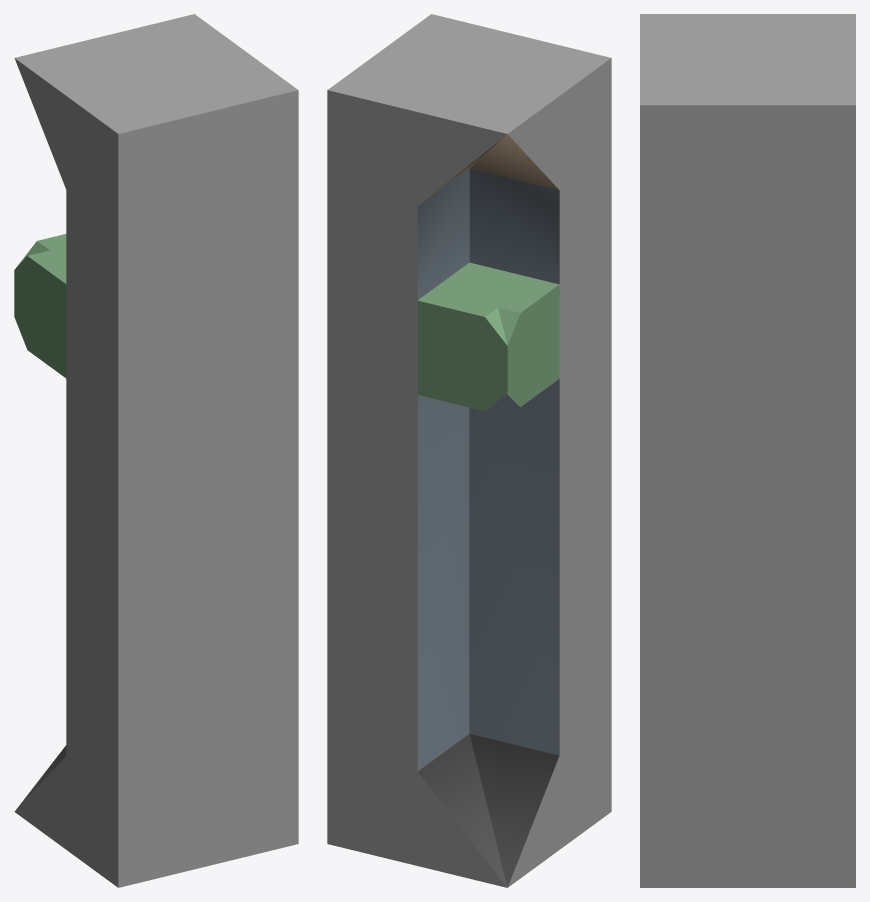
The model's file is Wall_Inside_Corner.fbx.
The picture shows the model from 3 angles, left to right: view 1: azimuth 30°, elevation 25°; view 2: azimuth 150°, elevation 25°; view 3: azimuth 270°, elevation 25°; orthographic projection. The views are drawn at different scales.
Parts seen in each view (by area): view 1: Corner; view 2: Corner; view 3: Corner.
Boxes of the visible parts, box(x1,y1,x2,y2) form: Corner: box(14, 14, 298, 887); Corner: box(327, 14, 611, 887); Corner: box(640, 14, 855, 887).
Bounding box in the file's own units: 100 × 400 × 100.
